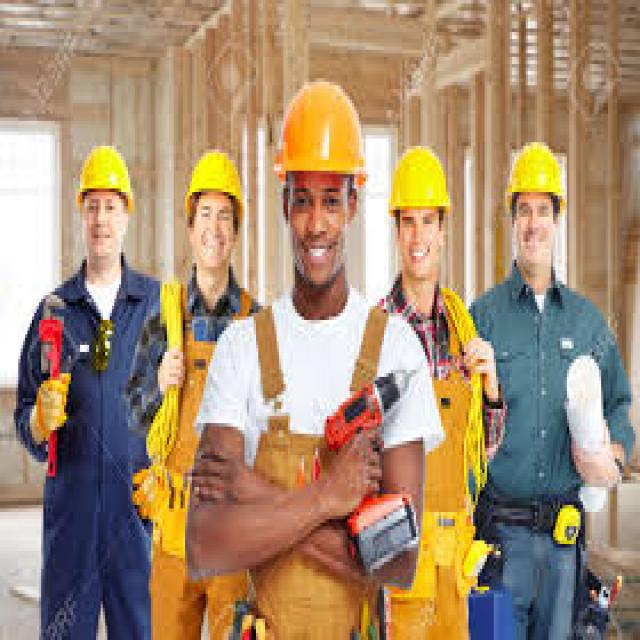Safety-Helmet: (270, 71, 372, 189), (384, 135, 453, 224), (71, 135, 139, 217), (183, 142, 249, 217), (503, 135, 567, 206)
